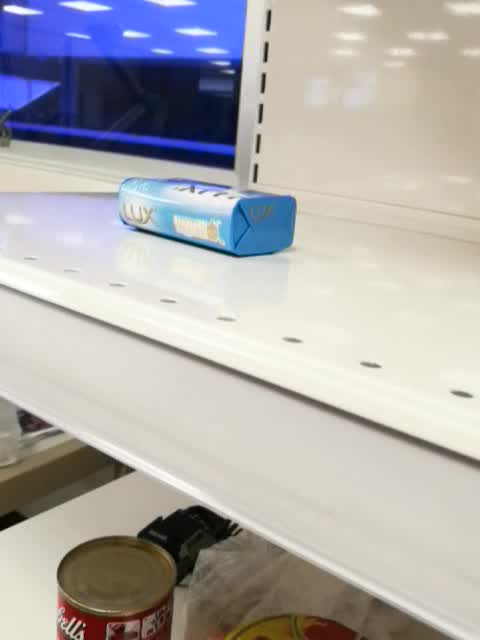soap: (114, 174, 299, 260)
